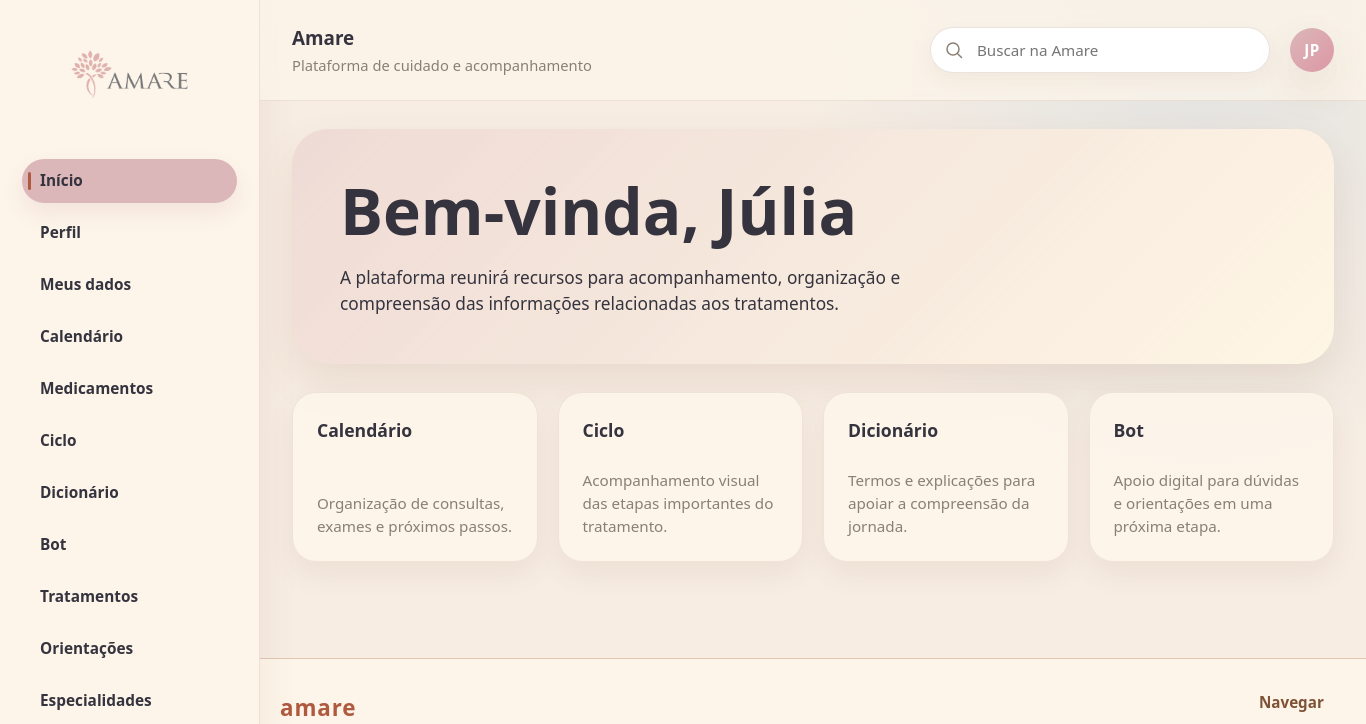
Test: Menu da conta no cabecalho › clicar fora fecha o menu
Click the button with test id "header-perfil-gatilho". click: (1312,50)
box: [1290, 28, 1334, 72]
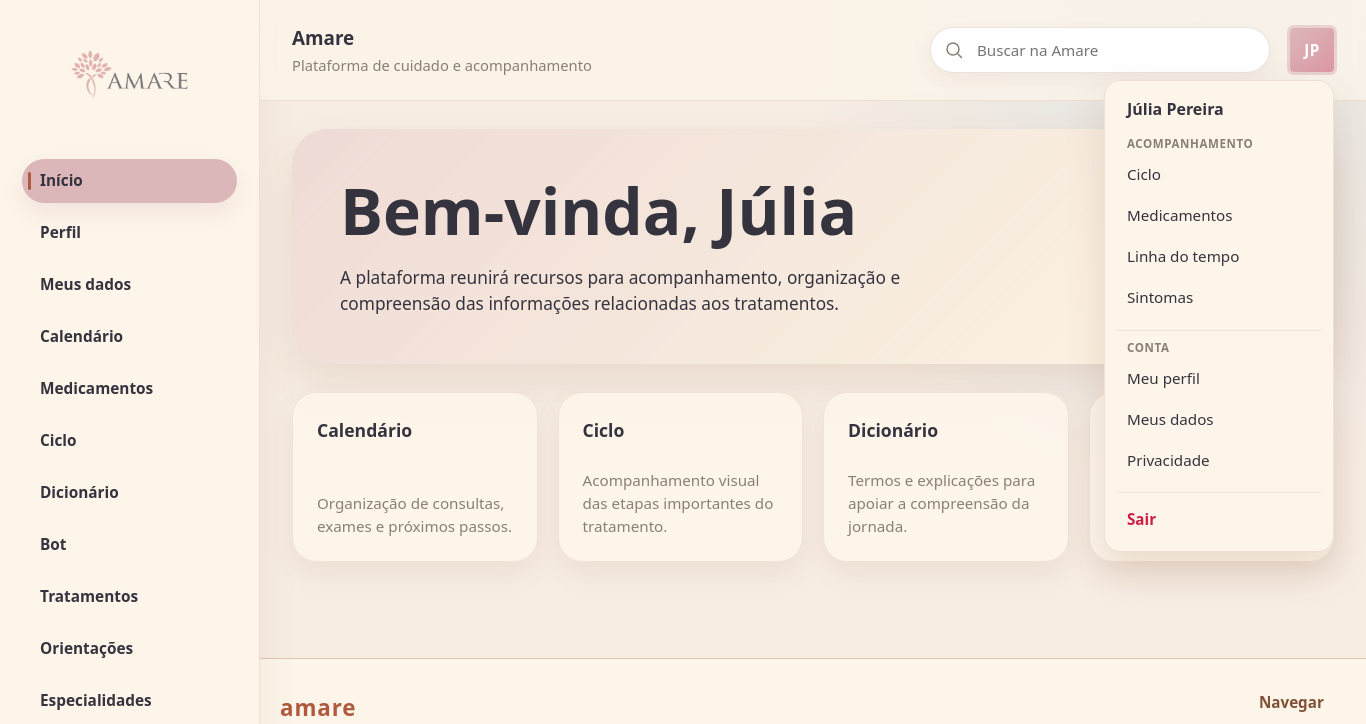
Now the menu with test id "header-perfil-painel" is shown, box [1104, 80, 1334, 552]
Click the heading with test id "home-saudacao". click: (700,211)
box: [340, 177, 1060, 244]
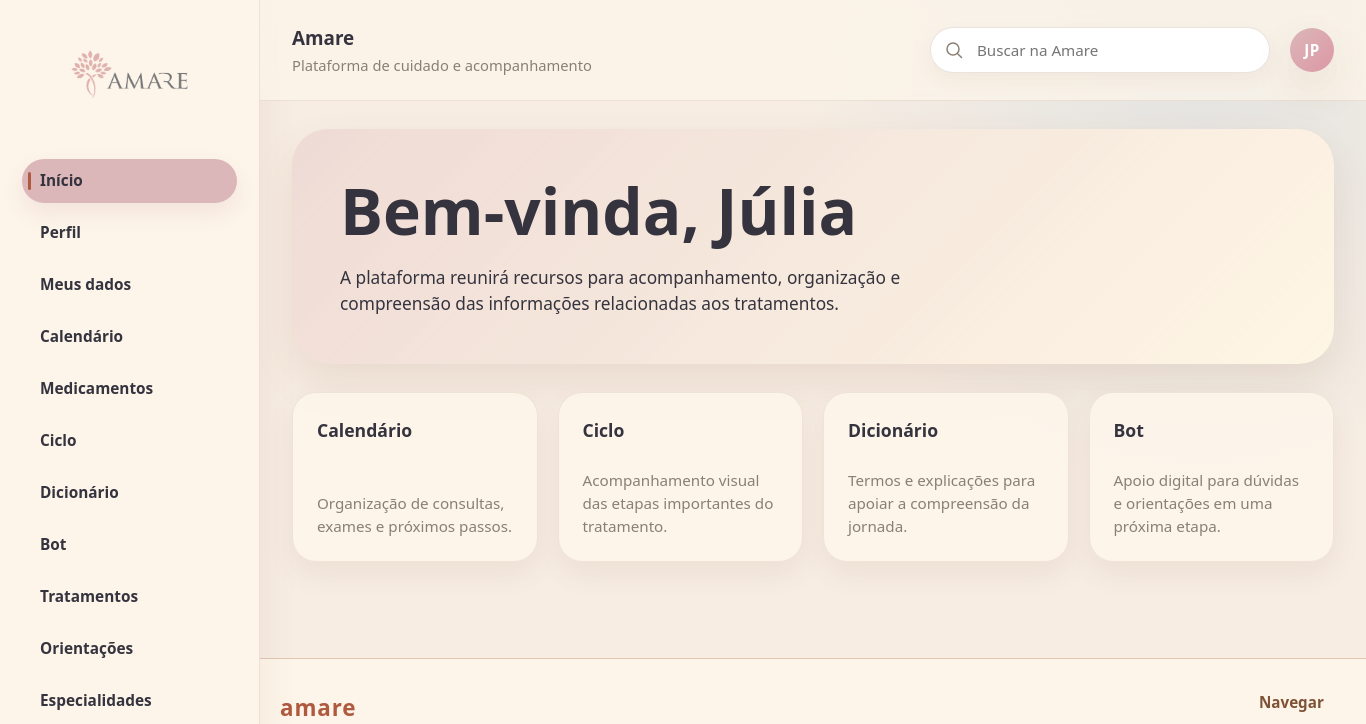
Now the menu with test id "header-perfil-painel" is gone
